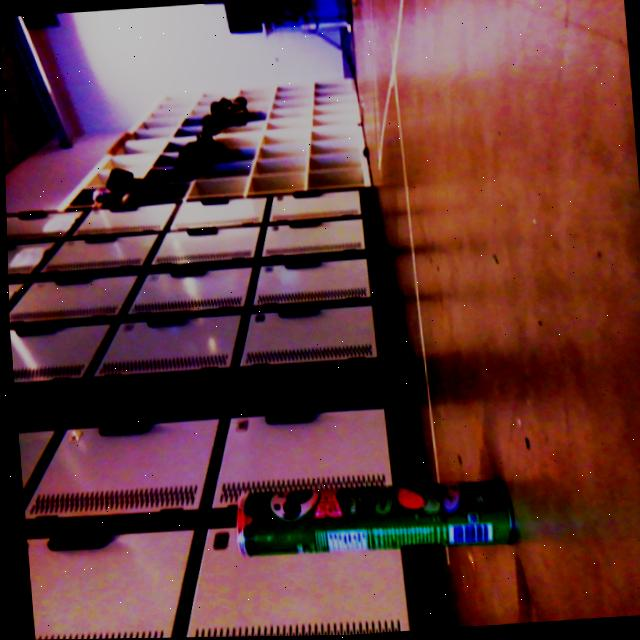greenpringles: (210, 460, 528, 575)
